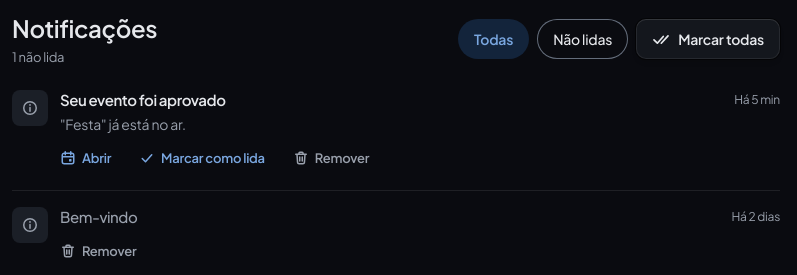
Tela de notificações do participante › filtro "Não lidas" esconde as lidas
Click the button "Não lidas": (583,39) left=537, top=19, right=628, bottom=59
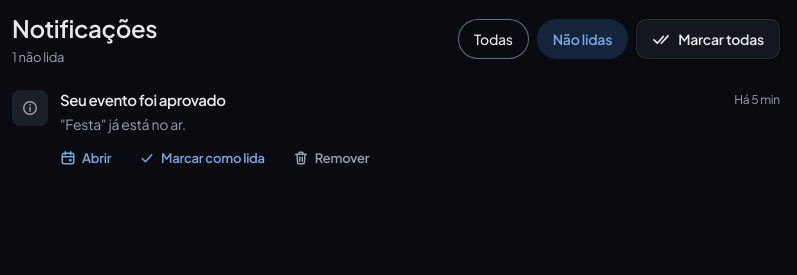
Check: the heading "Seu evento foi aprovado" is shown, box left=60, top=90, right=226, bottom=110
Check: the heading "Bem-vindo" is gone
